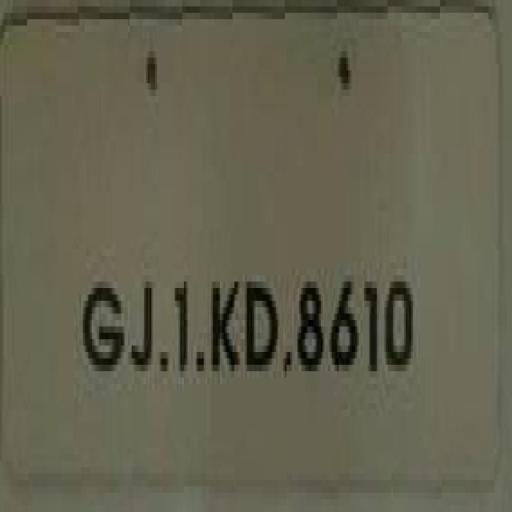number plate: (0, 13, 489, 474)
